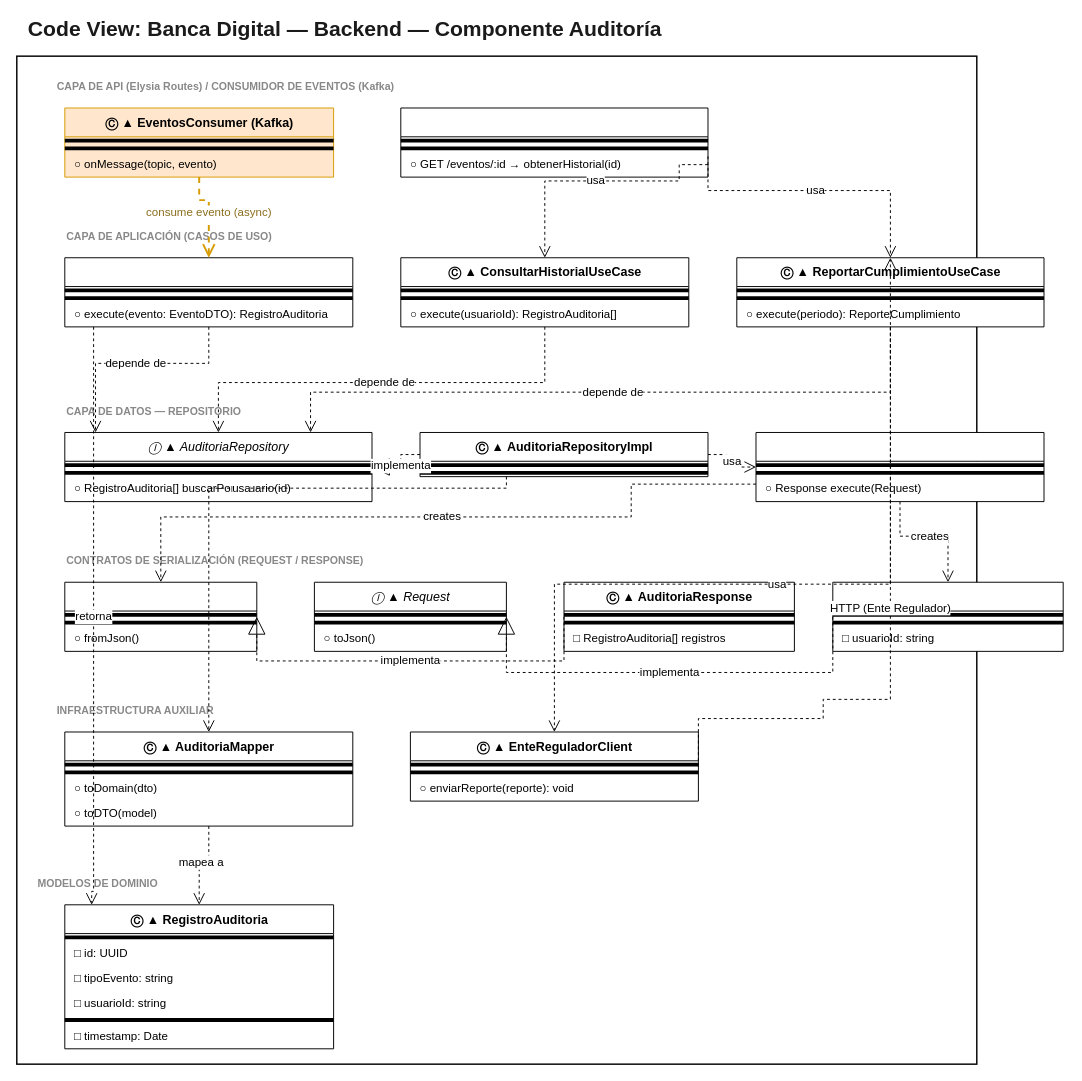
The diagram is 1082 pixels wide and 1081 high, and some of its shapes have lost their labels. Here are the shapes that lost their labels. From the top down, the box of each, then its label:
(400, 107, 708, 177): Ⓒ ▲ AuditoriaController
(64, 257, 353, 327): Ⓒ ▲ RegistrarEventoUseCase
(755, 432, 1044, 502): Ⓒ ▲ AuditoriaDbConnection
(64, 581, 257, 651): Ⓘ ▲ Response
(832, 581, 1063, 651): Ⓒ ▲ AuditoriaRequest
